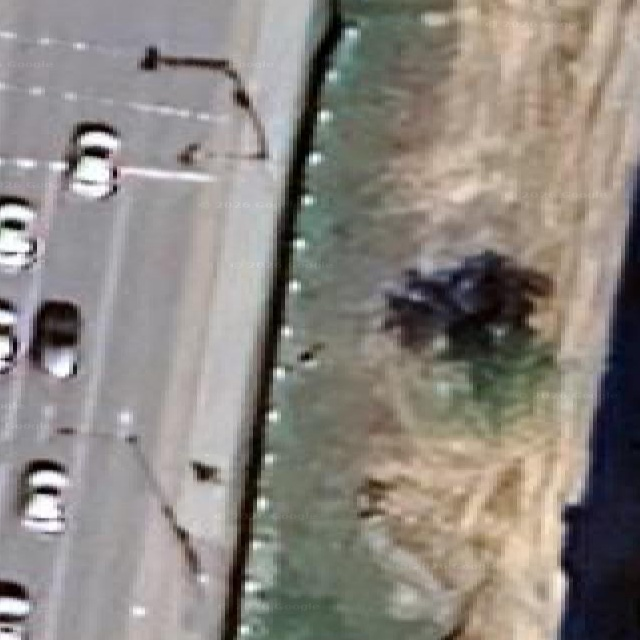car: (382, 248, 552, 347), (64, 123, 119, 199), (32, 300, 80, 376), (18, 460, 68, 532), (0, 196, 35, 270), (0, 580, 30, 639), (0, 299, 18, 372), (140, 45, 160, 70), (491, 337, 492, 339)
